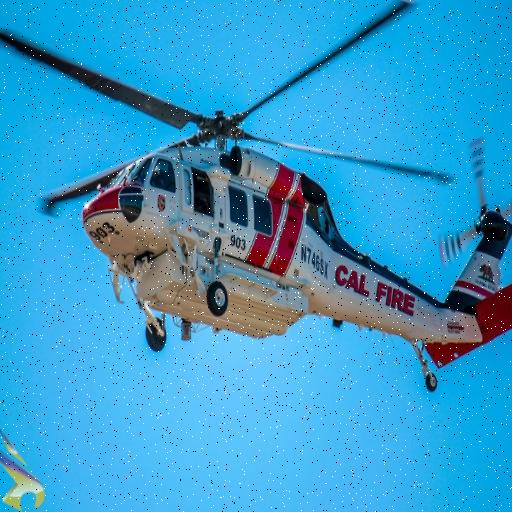helicopter: (13, 21, 512, 375)
